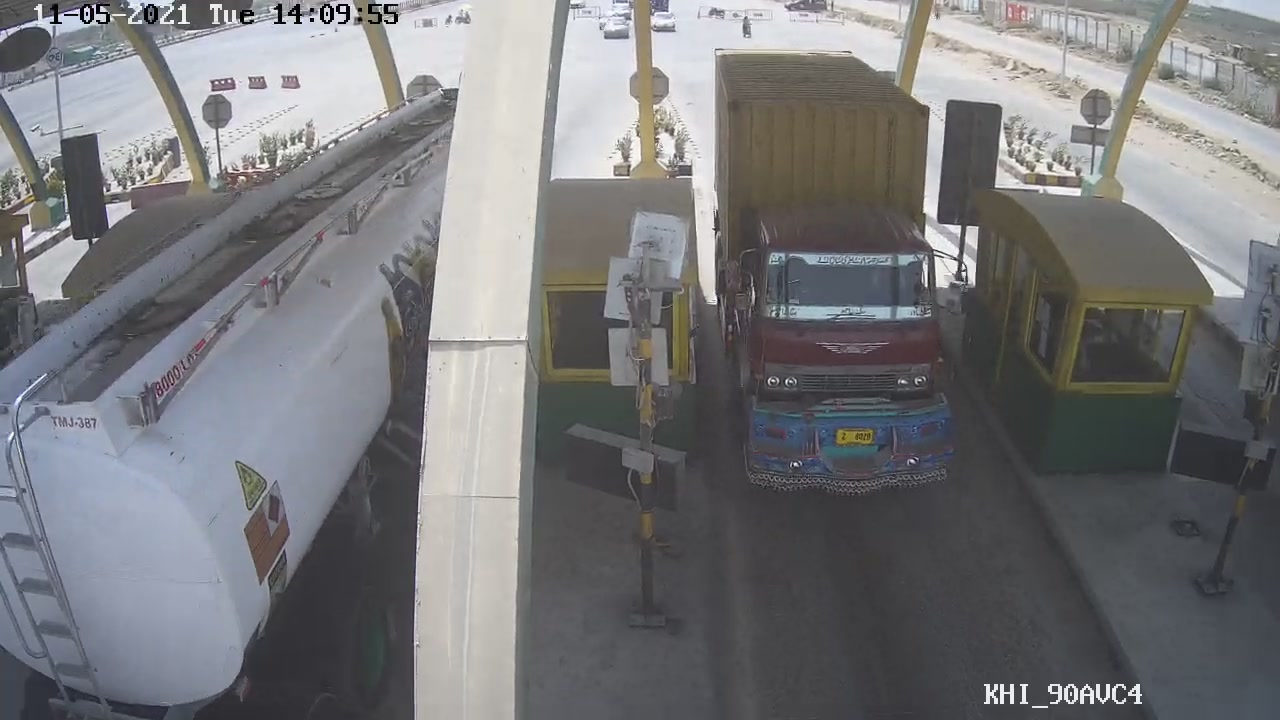F6: (706, 38, 970, 499)
